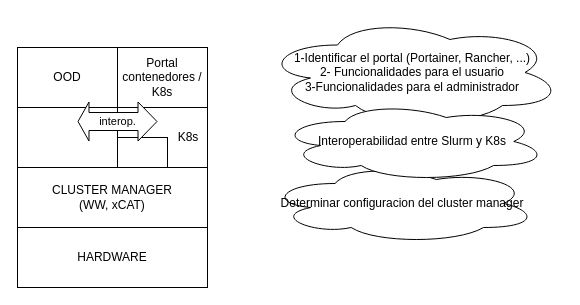
Some shapes in this 580 by 305 pixel diagram are drawn without their labels. The shapes that lost their labels are listed below. From the top down, each one's centre as x and y in pixels, then its label:
At point (67, 137): "SLURM".
At point (142, 152): "VMs".
